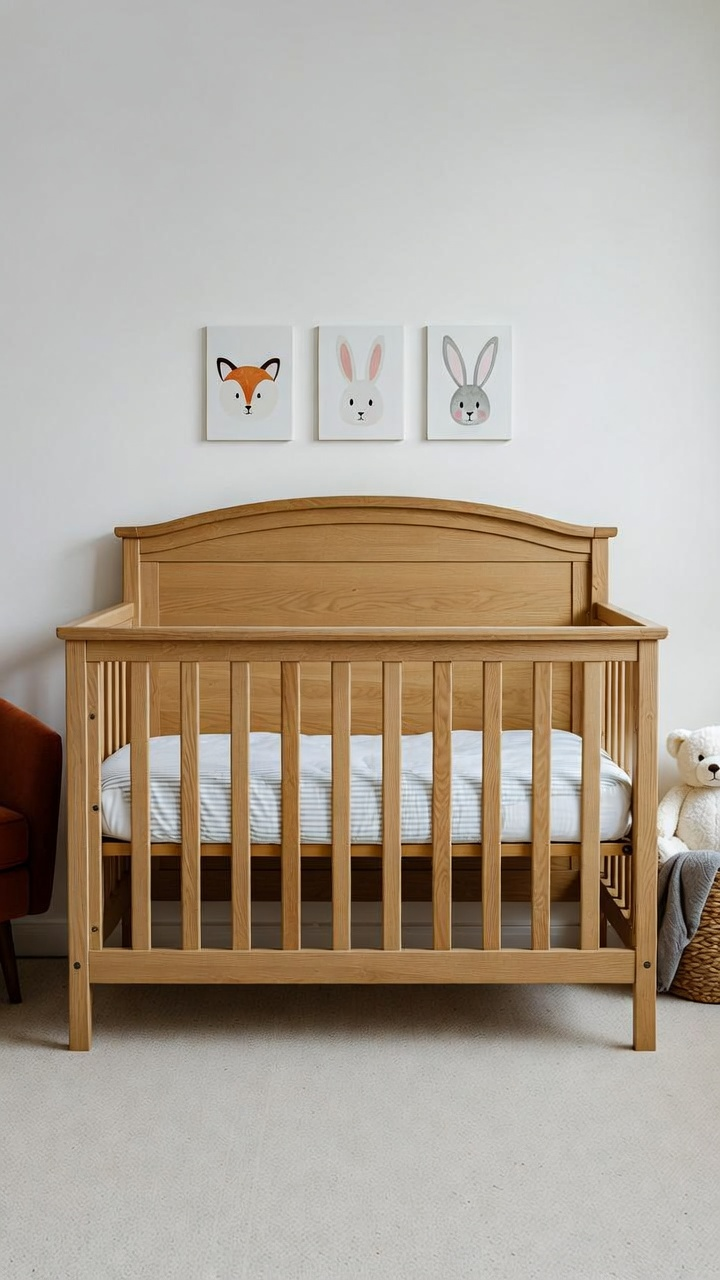crib: (58, 497, 665, 1048)
